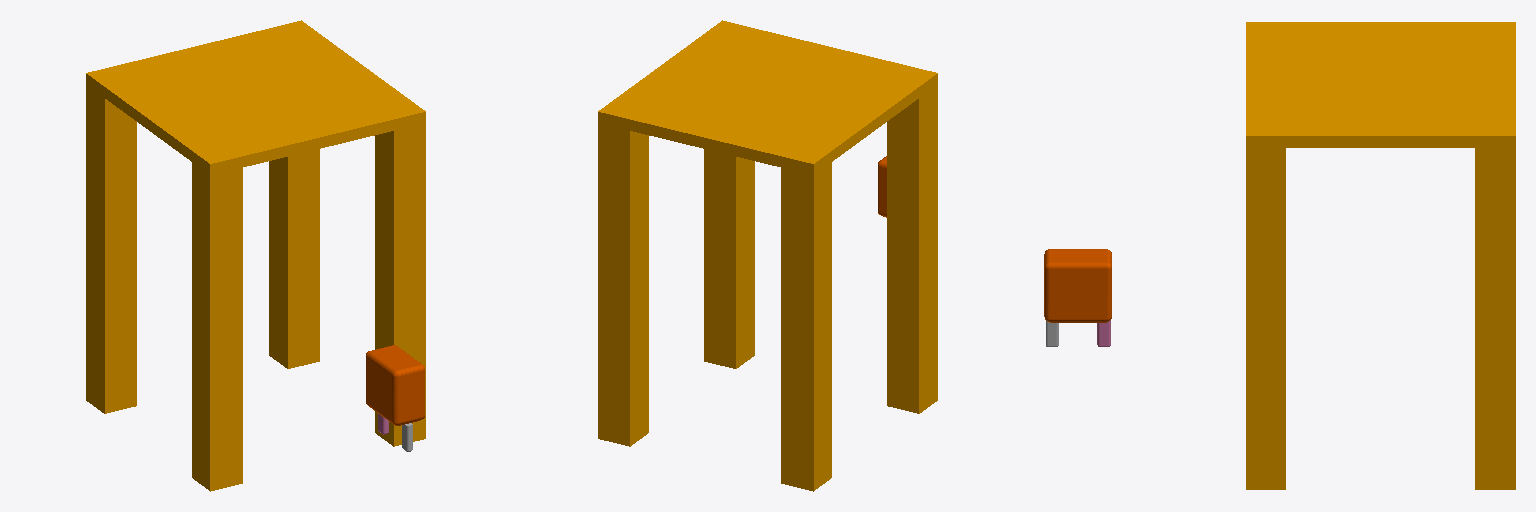
The robot description file, URDF, robot "cartesian_envrionment":
<?xml version="1.0" encoding="utf-8"?>
<!-- =================================================================================== -->
<!-- |    This document was autogenerated by xacro from simplefetch.xacro              | -->
<!-- |    EDITING THIS FILE BY HAND IS NOT RECOMMENDED                                 | -->
<!-- =================================================================================== -->
<robot name="cartesian_envrionment">
  <!-- some urdf stuff commented out now that we're an xacro -->
  <!--robot name="cartesian_envrionment"-->
  <link name="base_link">
    <intertial>
      <origin rpy="0 0 0" xyz="0 0 0"/>
      <mass value="0"/>
    </intertial>
    <visual>
      <geometry>
        <mesh filename="./meshes/table.stl"/>
      </geometry>
    </visual>
    <collision>
      <geometry>
        <mesh filename="./meshes/table.stl"/>
      </geometry>
    </collision>
  </link>
  <joint name="start_pose_offset_fixed_joint" type="fixed">
    <parent link="base_link"/>
    <child link="start_pose_offset_link"/>
    <origin xyz="0 0 0"/>
  </joint>
  <link name="start_pose_offset_link">
    <intertial>
      <origin rpy="0 0 0" xyz="0 0 0"/>
      <mass value="0"/>
    </intertial>
    <origin rpy="0 0 0" xyz="0 0 0"/>
  </link>
  <joint name="table_to_gripper_x" type="prismatic">
    <parent link="base_link"/>
    <child link="x_to_y"/>
    <origin rpy="0 0 0" xyz="0 0 0"/>
    <limit effort="1000" lower="-0.5" upper="0.5" velocity="0.1"/>
  </joint>
  <link name="x_to_y">
    <intertial>
      <origin rpy="0 0 0" xyz="0 0 0"/>
      <mass value="0"/>
    </intertial>
    <origin rpy="0 0 0" xyz="0 0 0"/>
  </link>
  <joint name="table_to_gripper_y" type="prismatic">
    <parent link="x_to_y"/>
    <child link="y_to_z"/>
    <origin rpy="0 0 1.57079632679" xyz="0 0 0"/>
    <limit effort="1000" lower="-0.5" upper="0.5" velocity="0.1"/>
  </joint>
  <link name="y_to_z">
    <intertial>
      <origin rpy="0 0 0" xyz="0 0 0"/>
      <mass value="0"/>
    </intertial>
    <origin rpy="0 0 0" xyz="0 0 0"/>
  </link>
  <joint name="table_to_gripper_z" type="prismatic">
    <parent link="y_to_z"/>
    <child link="prismatic_output"/>
    <origin rpy="0 -1.57079632679 0 " xyz="0 0 0"/>
    <limit effort="1000" lower="-0.5" upper="0.5" velocity="0.1"/>
  </joint>
  <link name="prismatic_output">
    <intertial>
      <origin rpy="0 0 0" xyz="0 0 0"/>
      <mass value="0"/>
    </intertial>
    <origin rpy="0 0 0" xyz="0 0 0"/>
  </link>
  <joint name="prismatic_to_gripper" type="fixed">
    <parent link="prismatic_output"/>
    <child link="gripper_base"/>
    <origin rpy="0 1.57079632679 0" xyz="0 0 0.560"/>
  </joint>
  <link name="gripper_base">
    <intertial>
      <origin rpy="0 0 0" xyz="-0.0900 -0.0001 -0.0017"/>
      <mass value="1.5175"/>
    </intertial>
    <visual>
      <geometry>
        <mesh filename="./meshes/gripper_base.stl"/>
      </geometry>
    </visual>
    <collision>
      <geometry>
        <mesh filename="./meshes/gripper_base.stl"/>
      </geometry>
    </collision>
  </link>
  <joint name="gripper_to_finger_left" type="fixed">
    <parent link="gripper_base"/>
    <child link="finger_left"/>
    <origin rpy="0 0 0" xyz="0.048 0 -0.125"/>
  </joint>
  <joint name="gripper_to_finger_right" type="fixed">
    <parent link="gripper_base"/>
    <child link="finger_right"/>
    <origin rpy="0 0 0" xyz="-0.048 0 -0.125"/>
  </joint>
  <link name="finger_left">
    <intertial>
      <origin rpy="0 0 0" xyz="-0.01 0 0"/>
      <mass value="0.0798"/>
    </intertial>
    <visual>
      <geometry>
        <mesh filename="./meshes/gripper_finger.stl"/>
      </geometry>
    </visual>
    <collision>
      <geometry>
        <mesh filename="./meshes/gripper_finger.stl"/>
      </geometry>
    </collision>
  </link>
  <link name="finger_right">
    <intertial>
      <origin rpy="0 0 0" xyz="-0.01 0 0"/>
      <mass value="0.0798"/>
    </intertial>
    <visual>
      <geometry>
        <mesh filename="./meshes/gripper_finger.stl"/>
      </geometry>
    </visual>
    <collision>
      <geometry>
        <mesh filename="./meshes/gripper_finger.stl"/>
      </geometry>
    </collision>
  </link>
</robot>

--- What the picture shows (computed from the rendered views, not written in the file) ---
3 views of the same robot in one strip: view 1: azimuth 30°, elevation 25°; view 2: azimuth 150°, elevation 25°; view 3: azimuth 270°, elevation 25° (orthographic).
Model cartesian_envrionment with 8 links and 7 joints (3 prismatic, 4 fixed), rooted at base_link, posed every joint at zero.
Visible links, largest first — view 1: base_link, gripper_base; view 2: base_link; view 3: base_link, gripper_base.
Link boxes in pixels (x1,y1,x2,y2): base_link: (86, 20, 425, 491); gripper_base: (366, 345, 424, 425); base_link: (598, 20, 937, 491); base_link: (1246, 22, 1515, 489); gripper_base: (1044, 249, 1111, 322).
Bounding box of the posed robot: 0.5 × 0.8725 × 0.725 m (x, y, z).
Meshes: 3 distinct files referenced, 4 mesh visuals loaded (3 binary STL).